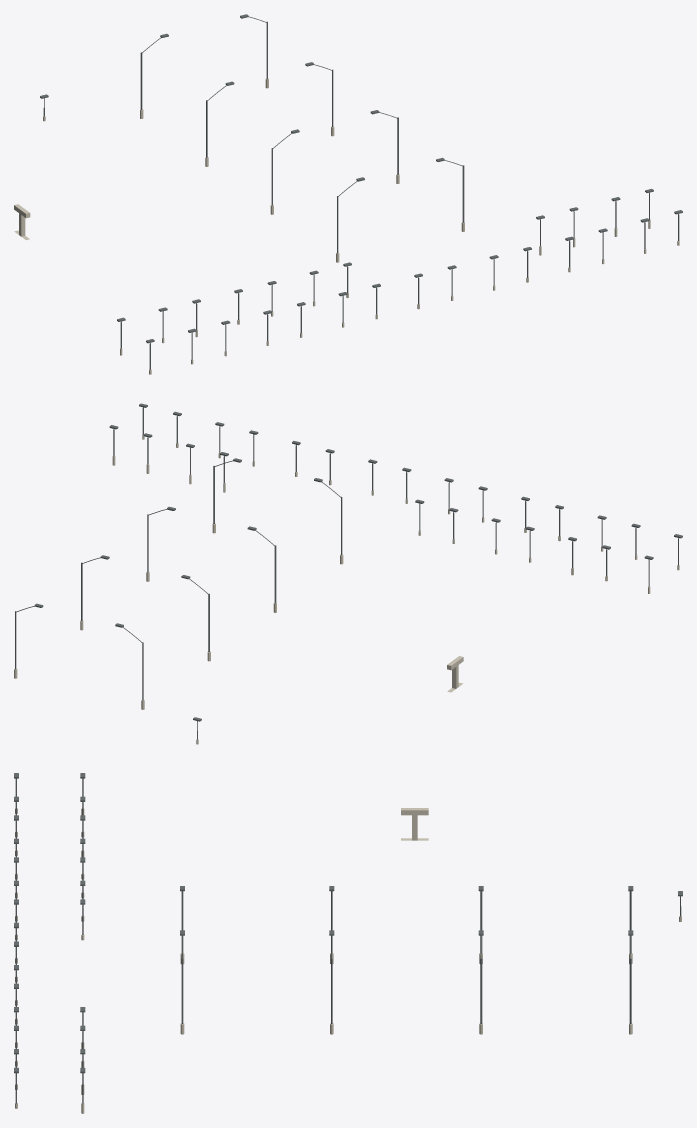
The picture shows the model from 3 angles, top to bottom: view 1: azimuth 30°, elevation 25°; view 2: azimuth 150°, elevation 25°; view 3: azimuth 270°, elevation 25°; orthographic projection. The views are drawn at different scales.
Visible parts, largest first — view 1: buildings_s_-5_2_Dark_Metal, buildings_s_-5_2_Warm_Limestone; view 2: buildings_s_-5_2_Dark_Metal, buildings_s_-5_2_Warm_Limestone; view 3: buildings_s_-5_2_Dark_Metal, buildings_s_-5_2_Warm_Limestone.
Boxes of the visible parts, bbox=[...] form: buildings_s_-5_2_Dark_Metal: bbox=[40, 14, 682, 369]; buildings_s_-5_2_Warm_Limestone: bbox=[14, 78, 679, 374]; buildings_s_-5_2_Dark_Metal: bbox=[15, 403, 682, 739]; buildings_s_-5_2_Warm_Limestone: bbox=[14, 434, 679, 744]; buildings_s_-5_2_Dark_Metal: bbox=[14, 773, 682, 1103]; buildings_s_-5_2_Warm_Limestone: bbox=[15, 808, 681, 1113].
Bounding box in the file's own units: 128 × 17.75 × 121.
